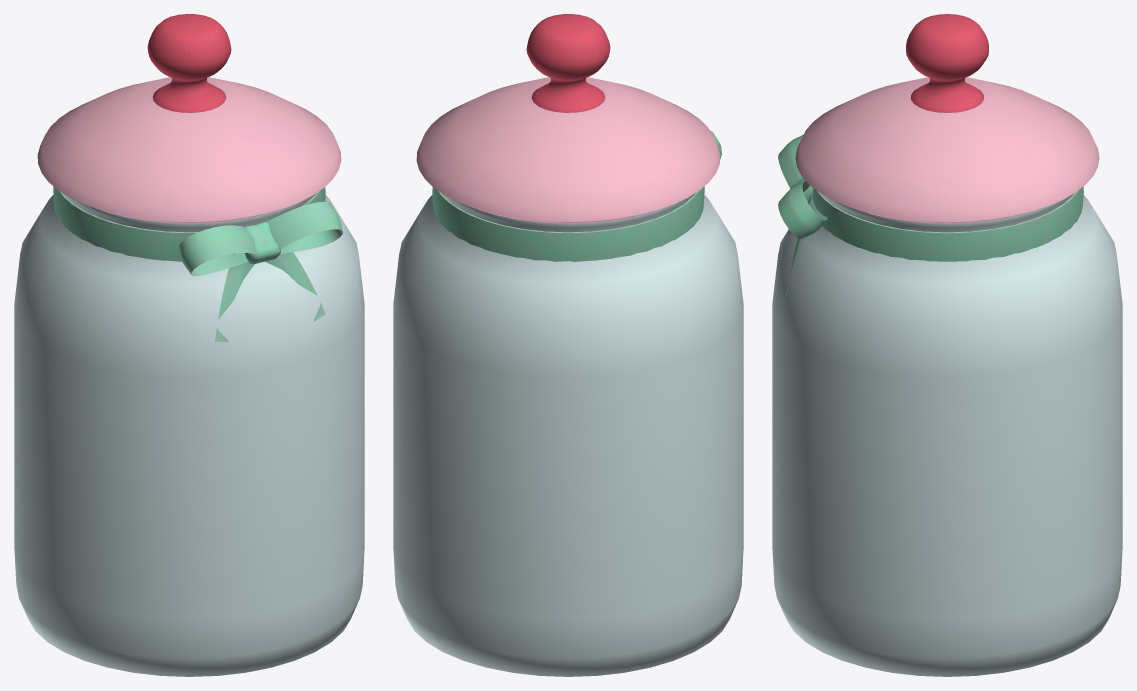
Rendered from candy-jar.glb.
The picture shows the model from 3 angles, left to right: view 1: azimuth 30°, elevation 25°; view 2: azimuth 150°, elevation 25°; view 3: azimuth 270°, elevation 25°; orthographic projection.
Parts seen in each view (by area): view 1: candy-jar_jar_glass, candy-jar_lid, candy-jar_body; view 2: candy-jar_jar_glass, candy-jar_lid, candy-jar_body; view 3: candy-jar_jar_glass, candy-jar_lid, candy-jar_body.
Part boxes in pixels (x1=…): candy-jar_jar_glass: x1=14, y1=193, x2=364, y2=676; candy-jar_lid: x1=37, y1=14, x2=341, y2=223; candy-jar_body: x1=53, y1=186, x2=342, y2=342; candy-jar_jar_glass: x1=393, y1=193, x2=743, y2=676; candy-jar_lid: x1=416, y1=14, x2=720, y2=223; candy-jar_body: x1=432, y1=130, x2=721, y2=261; candy-jar_jar_glass: x1=772, y1=193, x2=1122, y2=676; candy-jar_lid: x1=795, y1=14, x2=1099, y2=223; candy-jar_body: x1=778, y1=134, x2=1083, y2=295.
Size of the model in its own units: 0.121 by 0.226 by 0.121.
3 materials, 2 textured.
